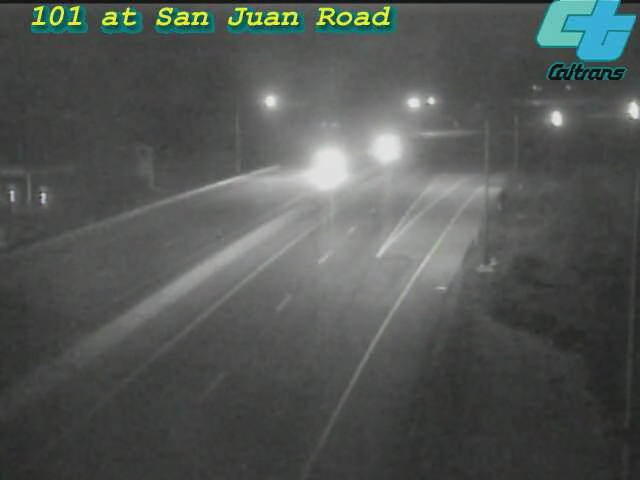vehicle: (315, 131, 365, 181), (364, 120, 414, 170), (536, 94, 586, 144), (607, 86, 640, 136)
